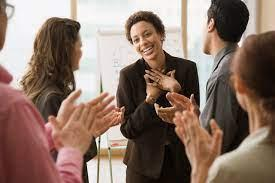No_Goggles: (130, 25, 157, 46)
